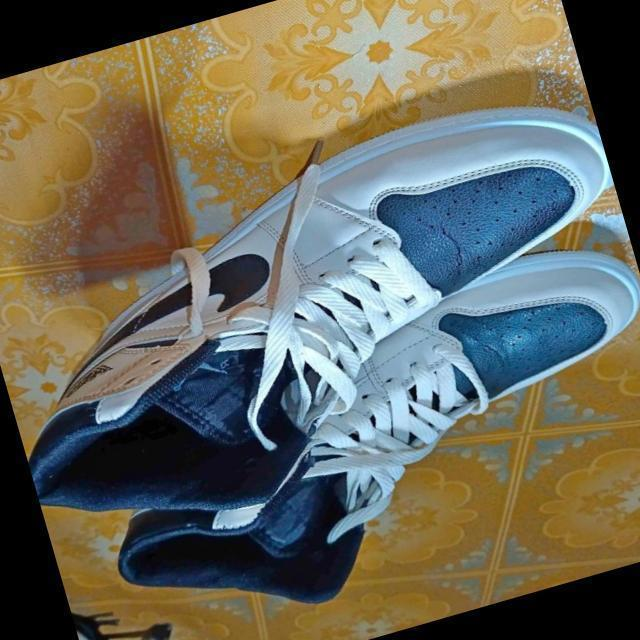nike fake jordan 1: (0, 65, 640, 566), (63, 225, 640, 640)
